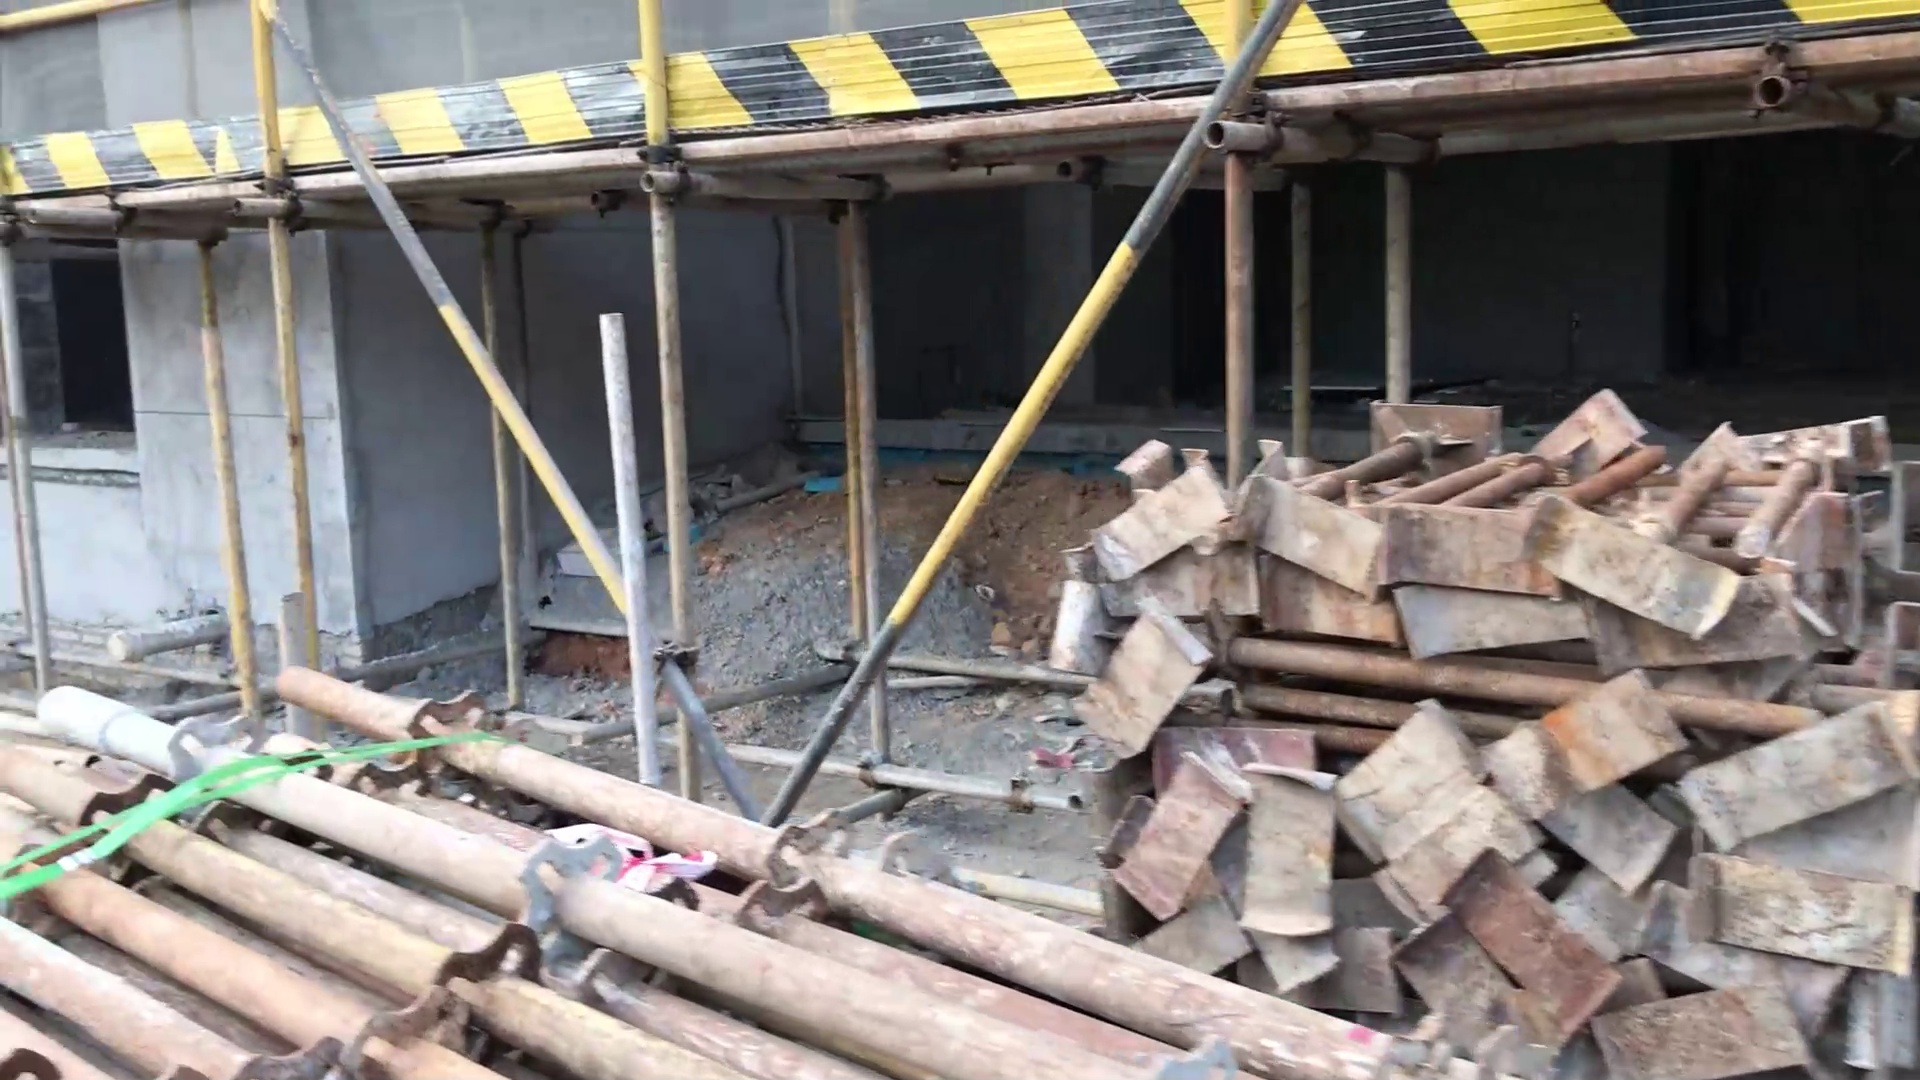scaffold: (1, 640, 1565, 1080)
